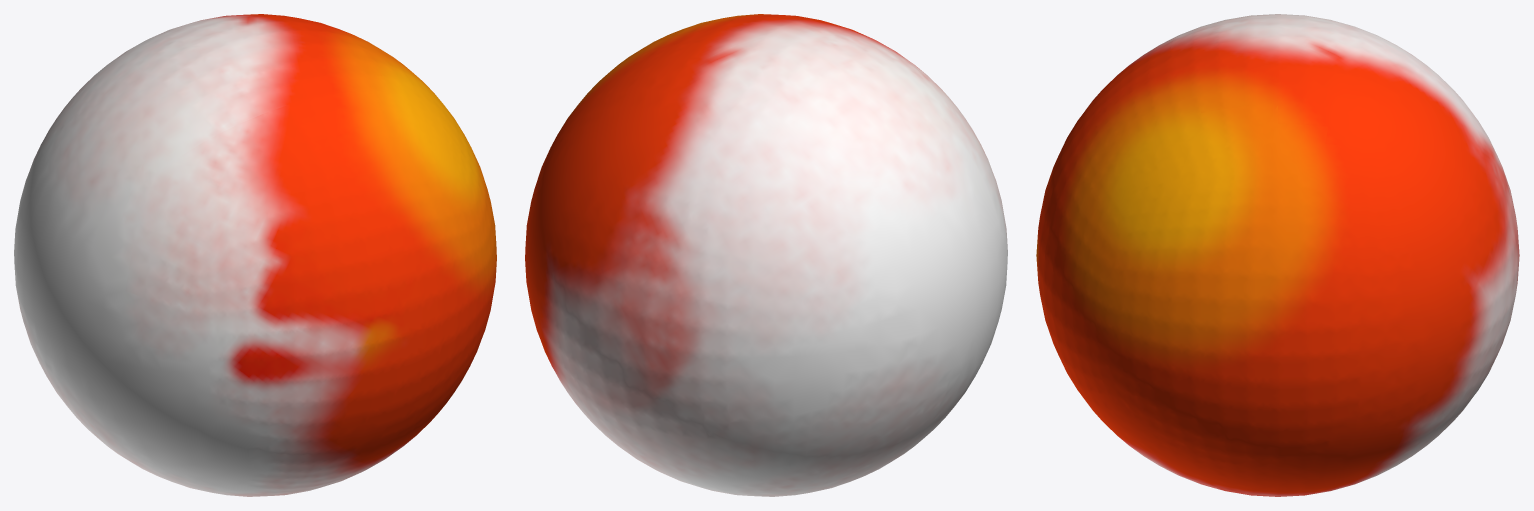
Rendered from textureEmbed.fbx.
The picture shows the model from 3 angles, left to right: view 1: azimuth 30°, elevation 25°; view 2: azimuth 150°, elevation 25°; view 3: azimuth 270°, elevation 25°; orthographic projection.
Parts seen in each view (by area): view 1: Sphere_001.pm; view 2: Sphere_001.pm; view 3: Sphere_001.pm.
Part boxes in pixels (bbox=[...]): Sphere_001.pm: bbox=[14, 14, 496, 496]; Sphere_001.pm: bbox=[525, 14, 1007, 496]; Sphere_001.pm: bbox=[1036, 14, 1519, 496].
Size of the model in its own units: 200 by 200 by 200.
Materials: 1 (1 with a texture image).
